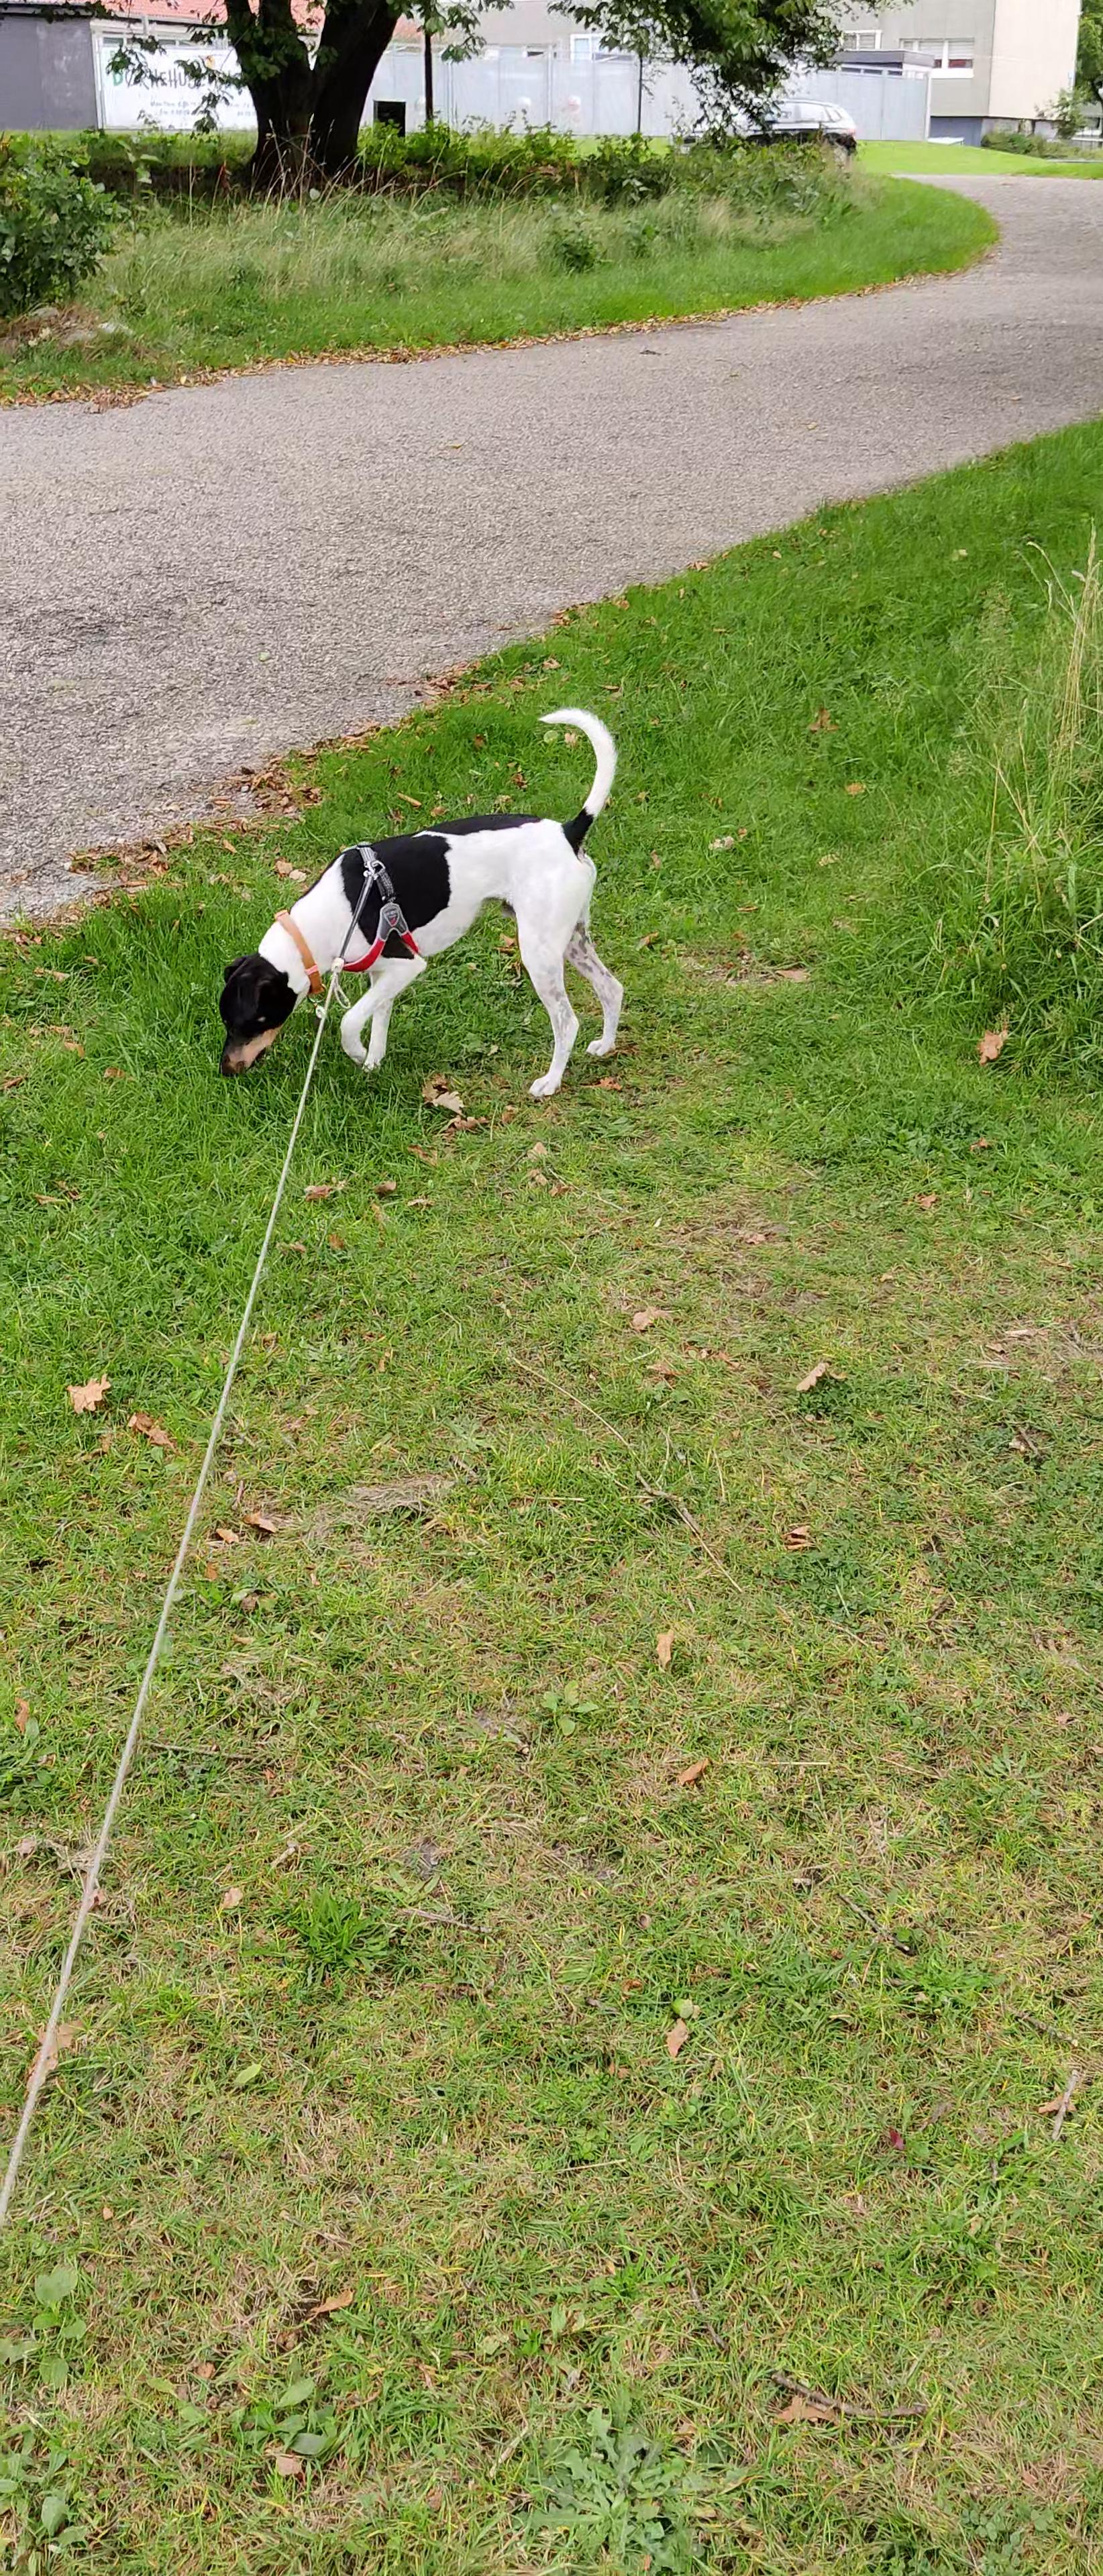Dog: (212, 700, 626, 1106)
